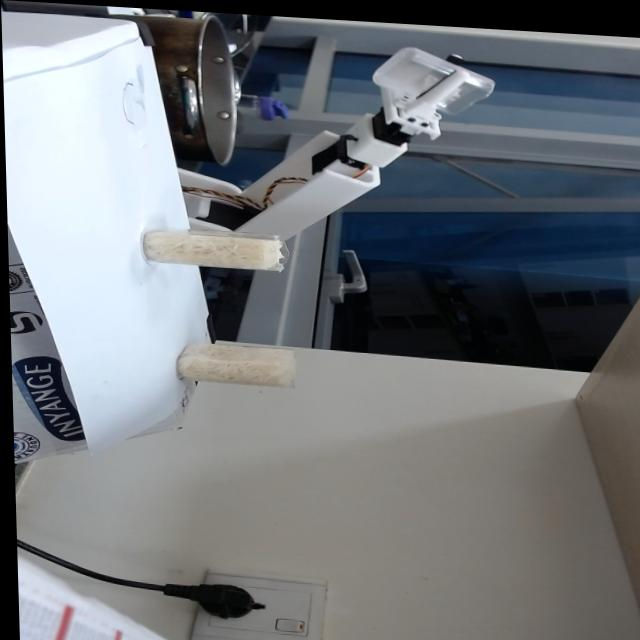cooking_pot: (108, 8, 237, 167)
raw_rice: (143, 230, 284, 267), (176, 340, 293, 381)
water: (367, 39, 446, 90)
